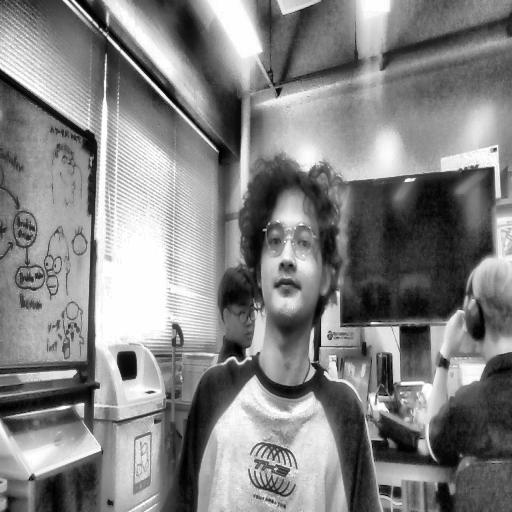Daifuku: (240, 159, 343, 333)
Not Daifuku: (465, 256, 512, 360), (218, 266, 256, 357)
